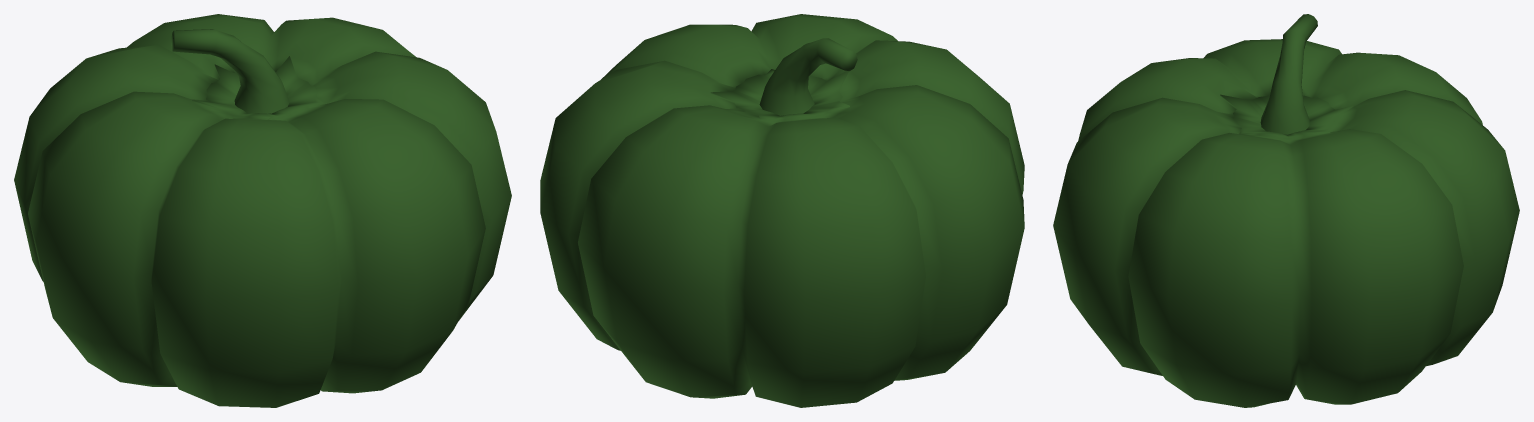
File: ZuccaStriataBad.fbx
The picture shows the model from 3 angles, left to right: view 1: azimuth 30°, elevation 25°; view 2: azimuth 150°, elevation 25°; view 3: azimuth 270°, elevation 25°; orthographic projection. The views are drawn at different scales.
Parts seen in each view (by area): view 1: Zucca.004; view 2: Zucca.004; view 3: Zucca.004.
Part boxes in pixels (bbox=[...]): Zucca.004: bbox=[14, 14, 511, 407]; Zucca.004: bbox=[540, 14, 1024, 407]; Zucca.004: bbox=[1053, 14, 1519, 407].
Size of the model in its own units: 61.16 by 44.1 by 61.67.
